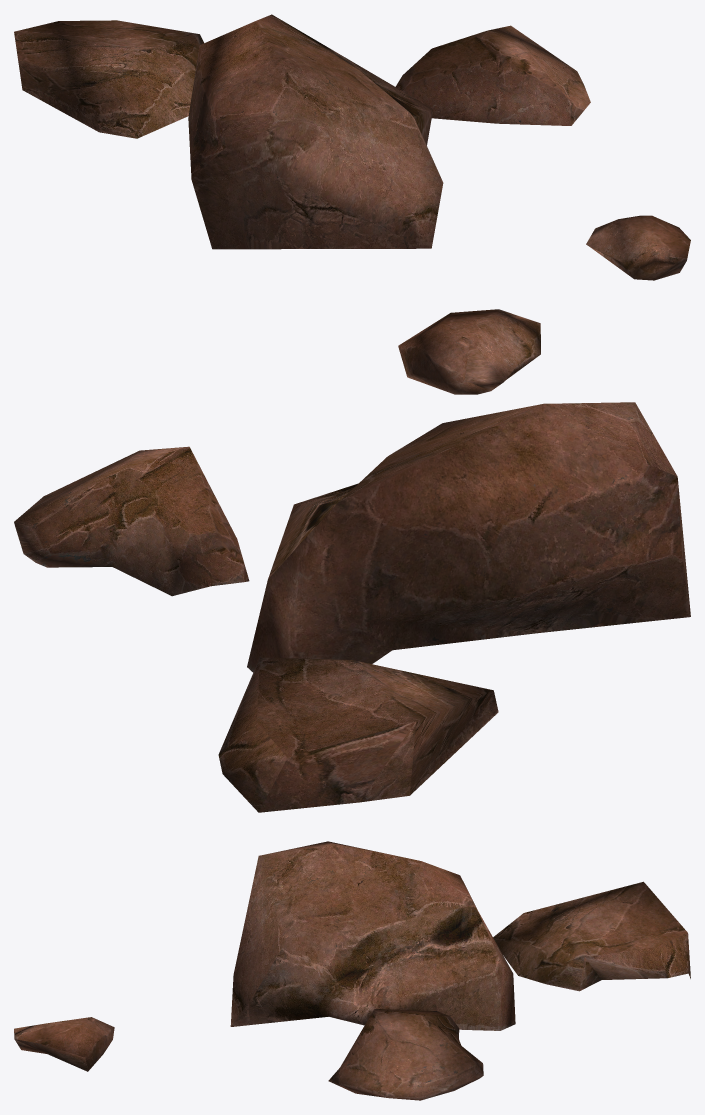
Rendered from Rock_Stone1_lod2.glb.
3 views of the same model, one above another, from view 1: azimuth 30°, elevation 25°; view 2: azimuth 150°, elevation 25°; view 3: azimuth 270°, elevation 25° (orthographic). The views are drawn at different scales.
Parts seen in each view (by area): view 1: xiutz_stone1_lod2; view 2: xiutz_stone1_lod2; view 3: xiutz_stone1_lod2.
Boxes of the visible parts, x1,y1,x2,y2 form: xiutz_stone1_lod2: [14, 14, 690, 280]; xiutz_stone1_lod2: [14, 309, 690, 812]; xiutz_stone1_lod2: [14, 841, 690, 1100].
Size of the model in its own units: 8.62 by 3.2 by 13.62.
Materials: 1 (1 with a texture image).
